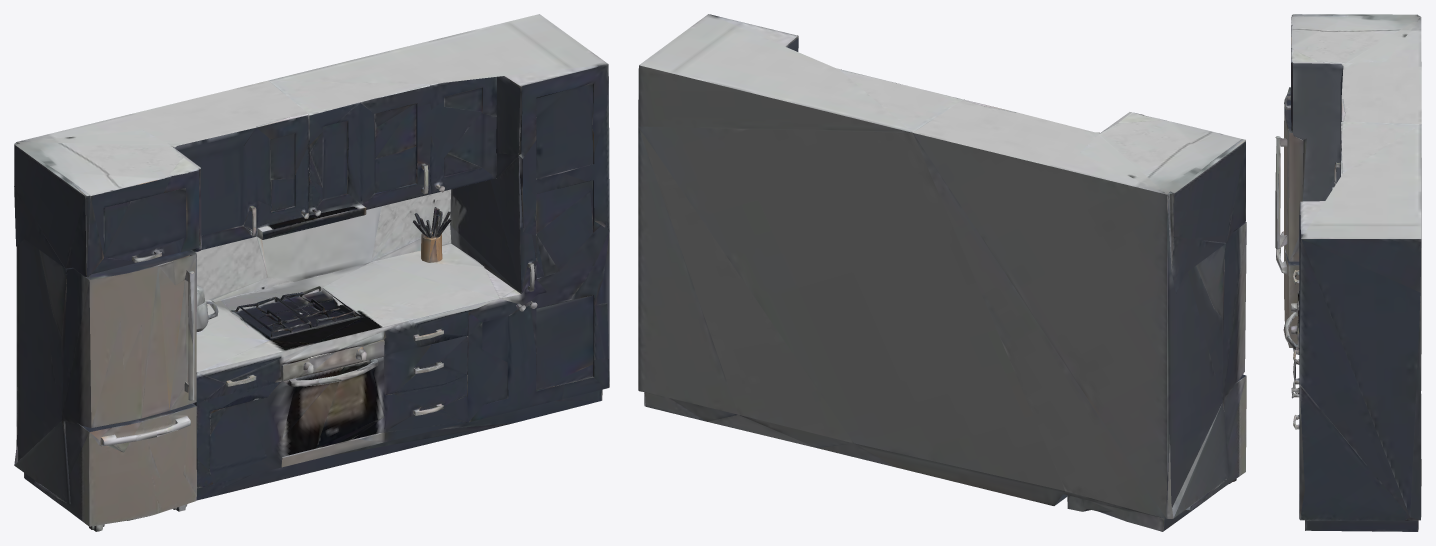
Rendered from kitchen-wall-v1.glb.
The picture shows the model from 3 angles, left to right: view 1: azimuth 30°, elevation 25°; view 2: azimuth 150°, elevation 25°; view 3: azimuth 270°, elevation 25°; orthographic projection. The views are drawn at different scales.
Bounding box in the file's own units: 5 × 3.07 × 1.37.
1 material, 1 textured.
